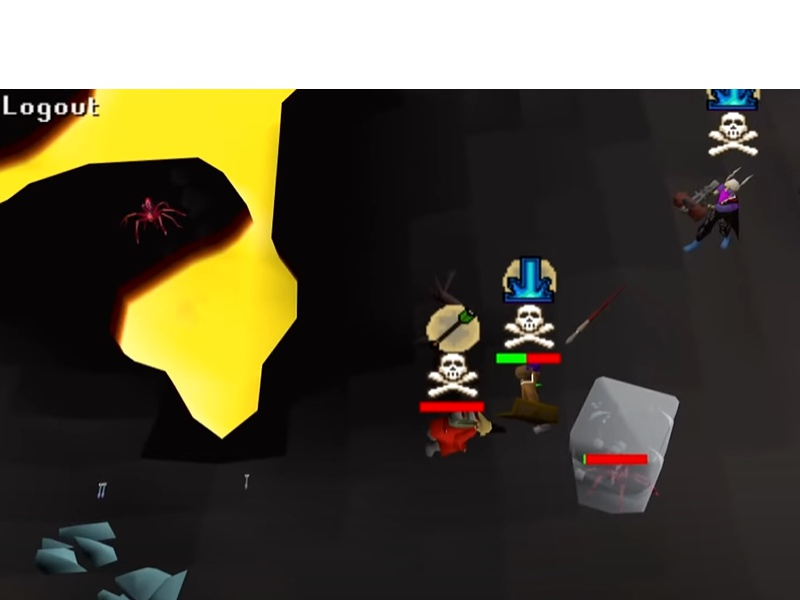rune: (29, 517, 121, 578), (93, 565, 197, 600)
